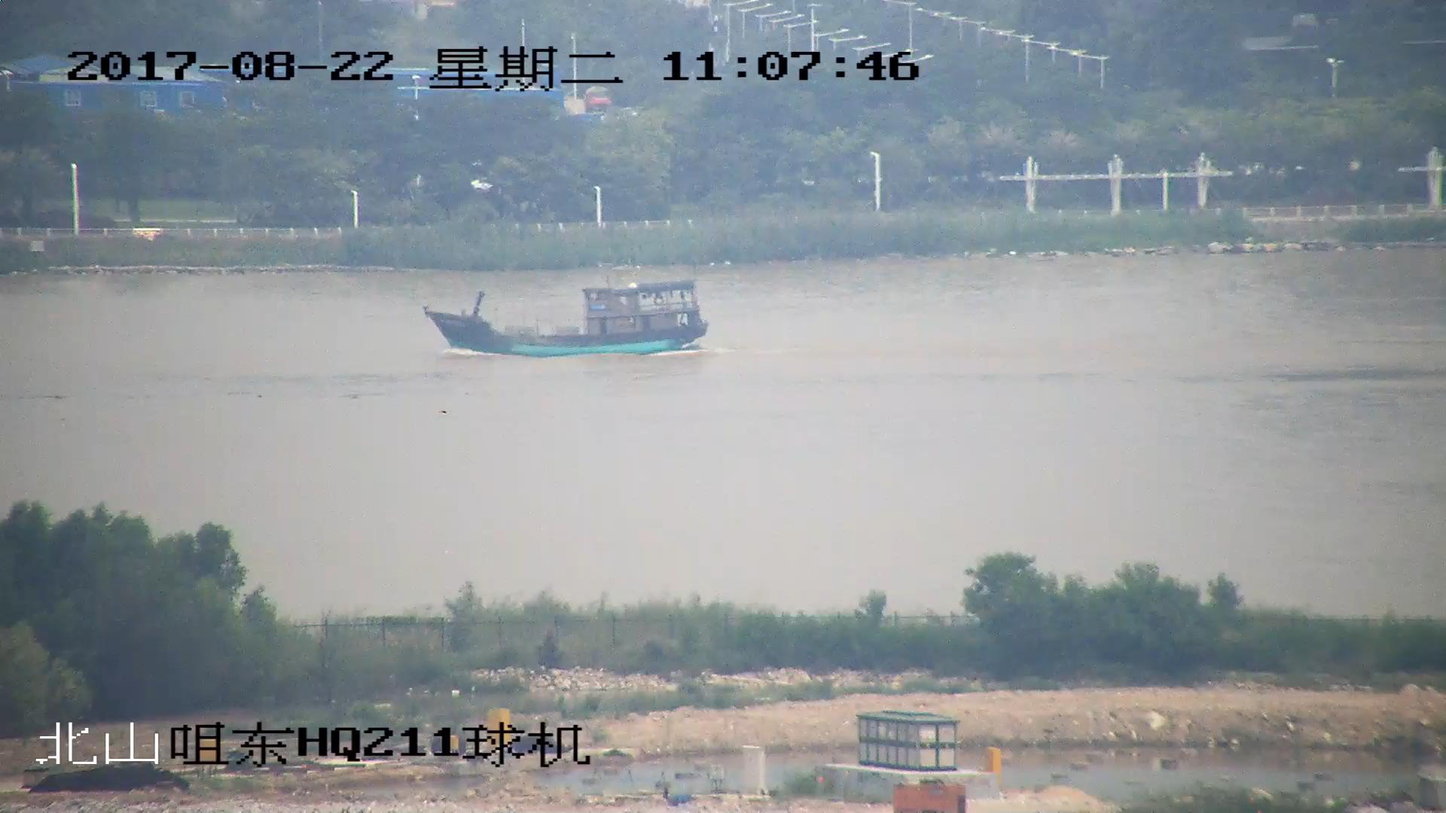fishing boat: (426, 277, 705, 360)
